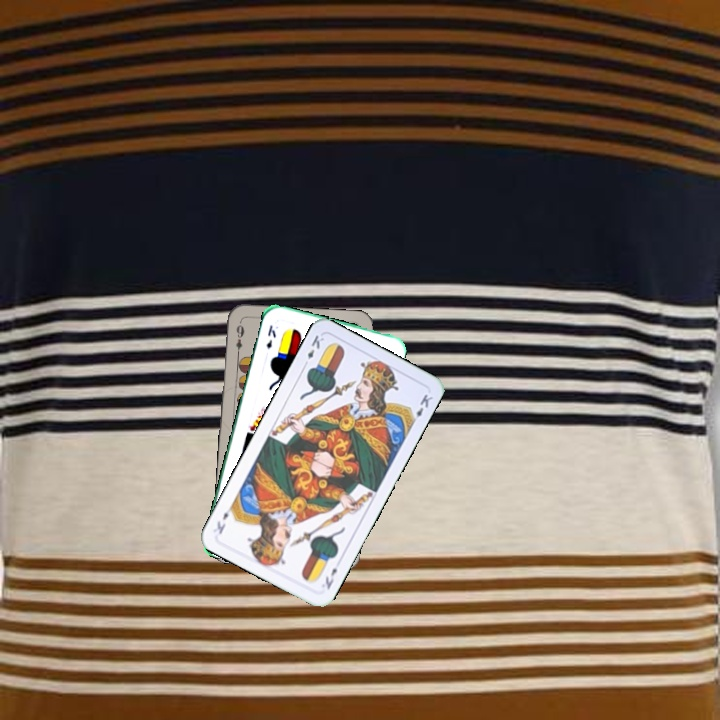E9: (232, 318, 247, 359)
EK: (299, 331, 327, 369), (321, 564, 340, 592), (262, 321, 279, 352)
